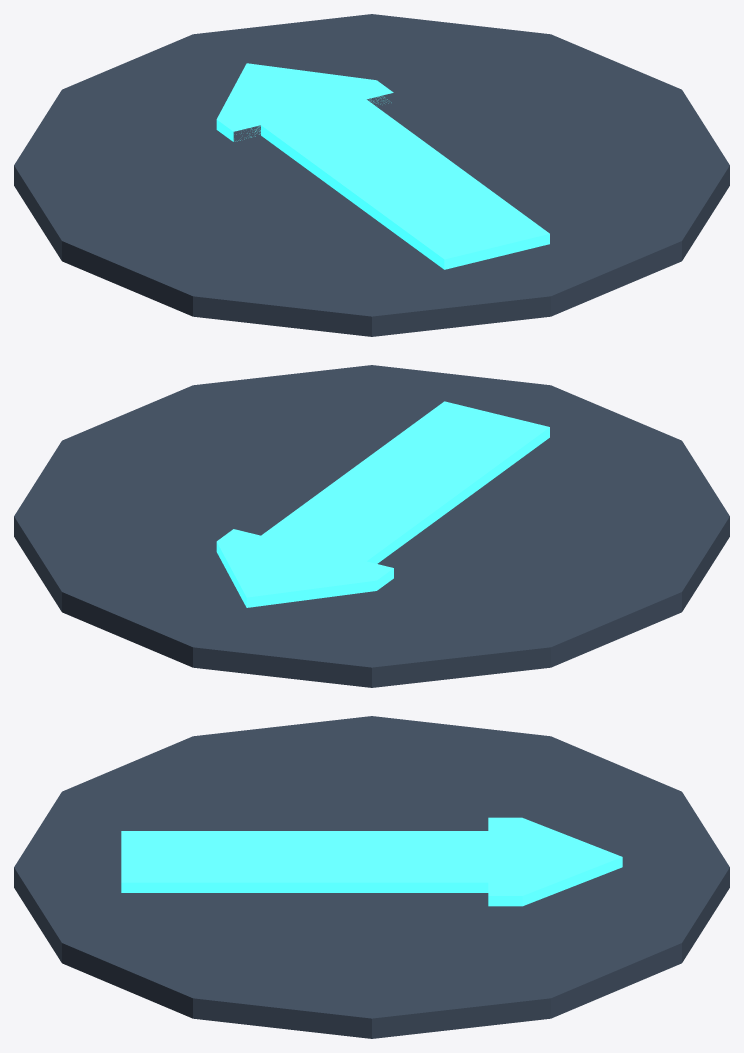
Rendered from boost_pad.glb.
3 renders of one model, top to bottom at view 1: azimuth 30°, elevation 25°; view 2: azimuth 150°, elevation 25°; view 3: azimuth 270°, elevation 25°, orthographic.
Visible parts, largest first — view 1: BoostPadMesh; view 2: BoostPadMesh; view 3: BoostPadMesh.
Part boxes in pixels (left/top/right/bottom): BoostPadMesh: left=14, top=14, right=729, bottom=336; BoostPadMesh: left=14, top=365, right=729, bottom=687; BoostPadMesh: left=14, top=716, right=729, bottom=1038.
Bounding box in the file's own units: 3.5 × 0.166 × 3.5.
